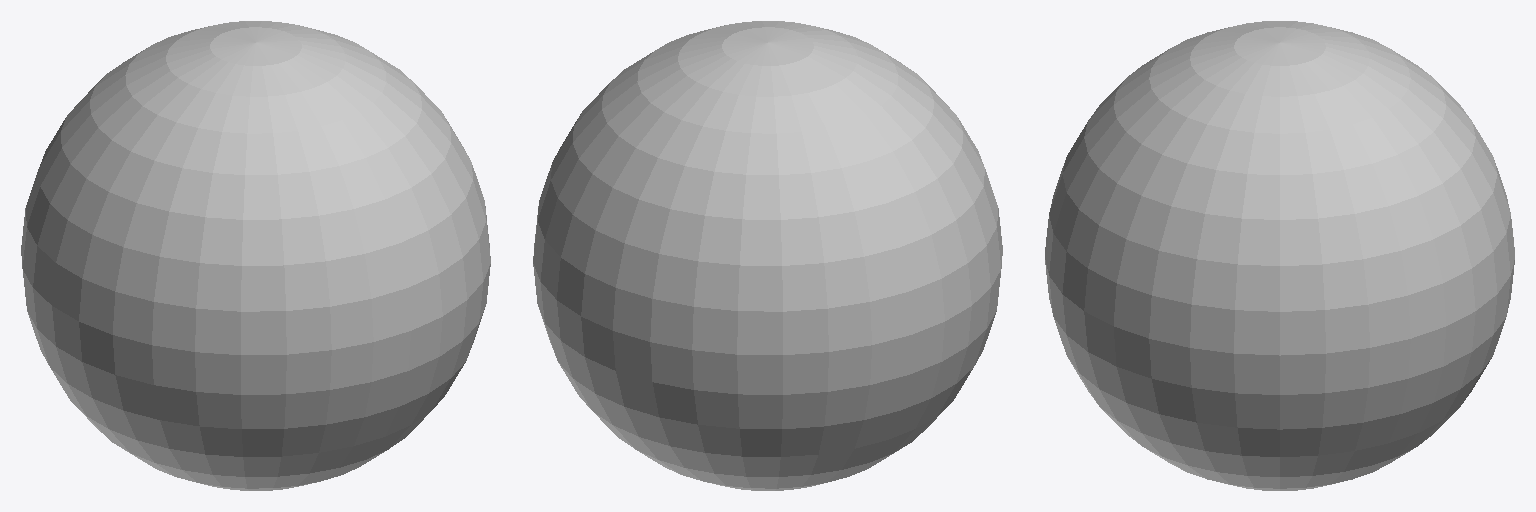
Rendered from skydome.obj.
3 renders of one model, left to right at view 1: azimuth 30°, elevation 25°; view 2: azimuth 150°, elevation 25°; view 3: azimuth 270°, elevation 25°, orthographic.
Visible parts, largest first — view 1: 球; view 2: 球; view 3: 球.
Part boxes in pixels (x1,y1,x2,y2): 球: (21,21,490,490); 球: (533,21,1002,490); 球: (1045,21,1514,490).
Size of the model in its own units: 500 by 500 by 500.